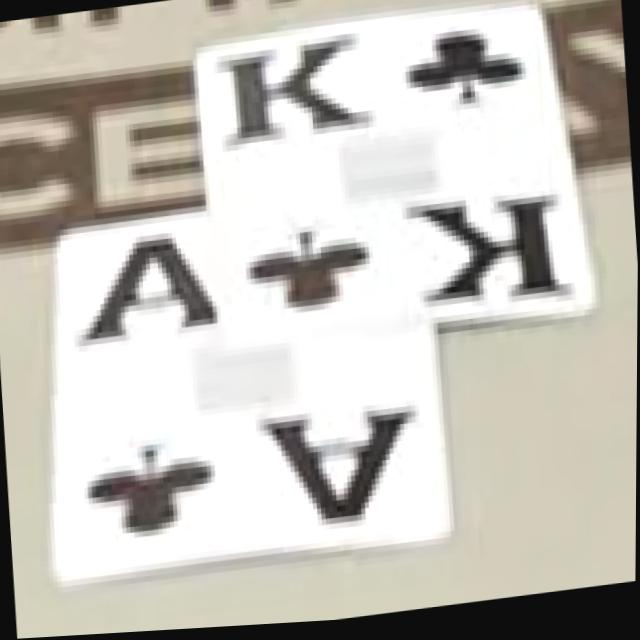Card-A: (59, 214, 453, 585)
Card-K: (197, 8, 595, 346)
